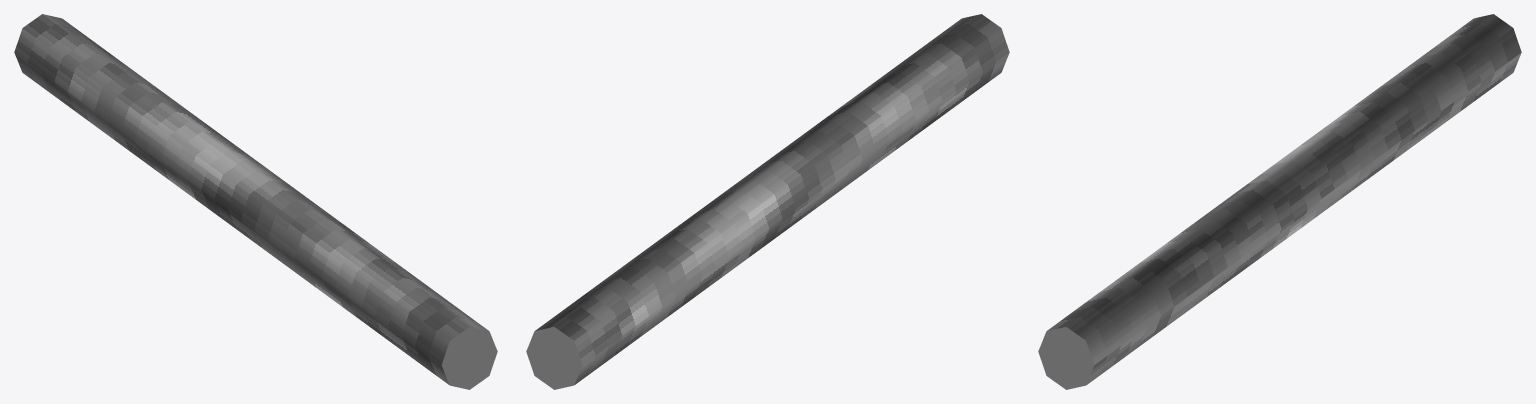
Rendered from ironbar.obj.
3 views of the same model, side by side, from view 1: azimuth 30°, elevation 25°; view 2: azimuth 150°, elevation 25°; view 3: azimuth 330°, elevation 25° (orthographic).
Parts seen in each view (by area): view 1: Cylinder01; view 2: Cylinder01; view 3: Cylinder01.
Part boxes in pixels (x1,y1,x2,y2): Cylinder01: [14, 14, 497, 389]; Cylinder01: [526, 14, 1009, 389]; Cylinder01: [1038, 14, 1521, 389].
Bounding box in the file's own units: 2.39 × 2.57 × 31.5.
